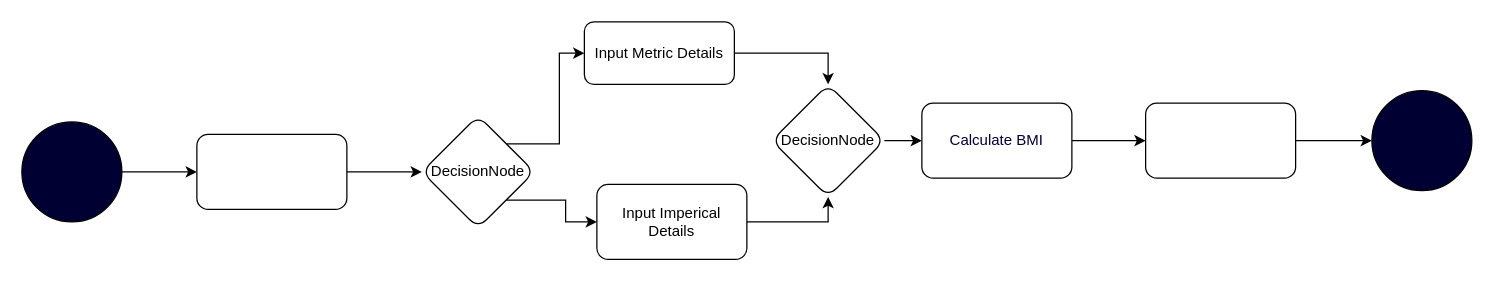
Image size: 1494x281. Some labels were removed from this diagram. Here are the shapes that lost their labels. From the top down, the centre of each, then its label:
At (1220,140): "Output".
At (271,171): "Select Units".
